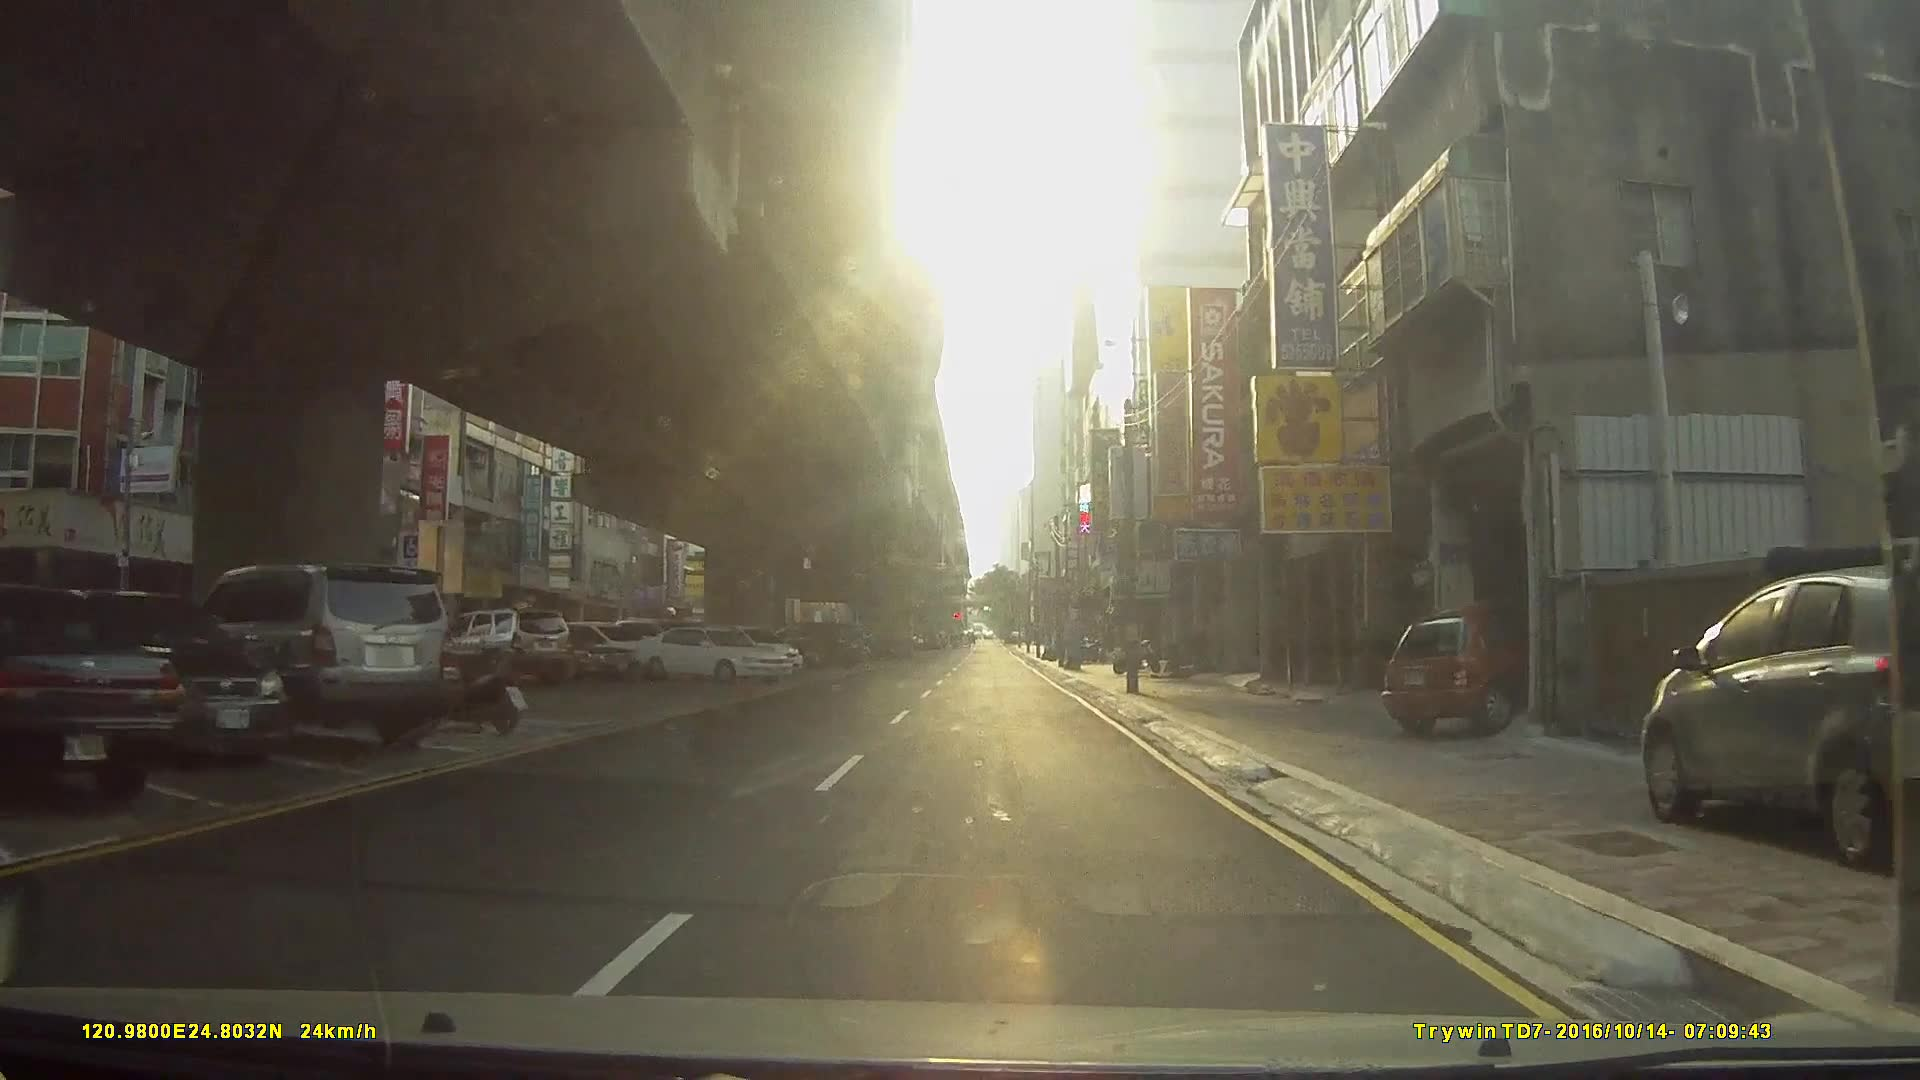vehicle: (1639, 562, 1920, 868), (158, 560, 458, 753), (17, 585, 291, 769), (0, 583, 179, 803), (1381, 600, 1560, 733), (435, 607, 574, 680), (472, 621, 632, 684), (630, 622, 793, 682)
